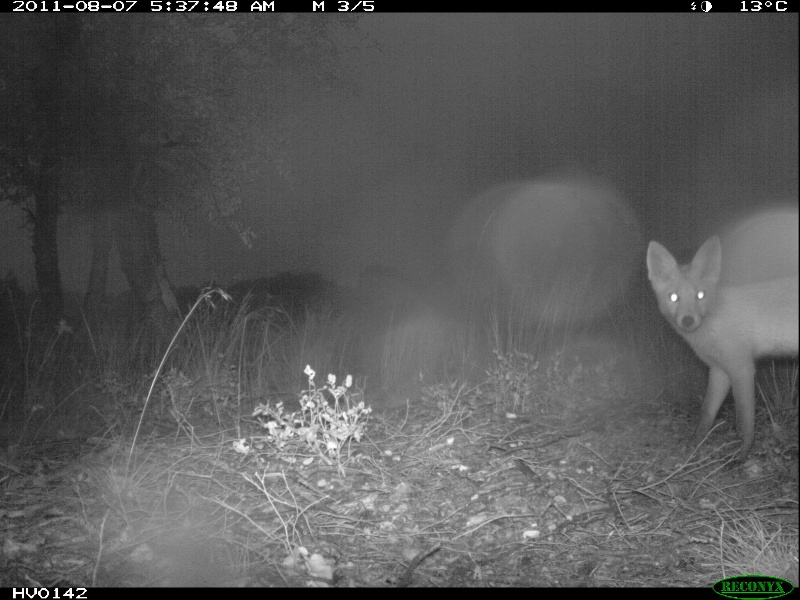fox: (639, 228, 800, 475)
